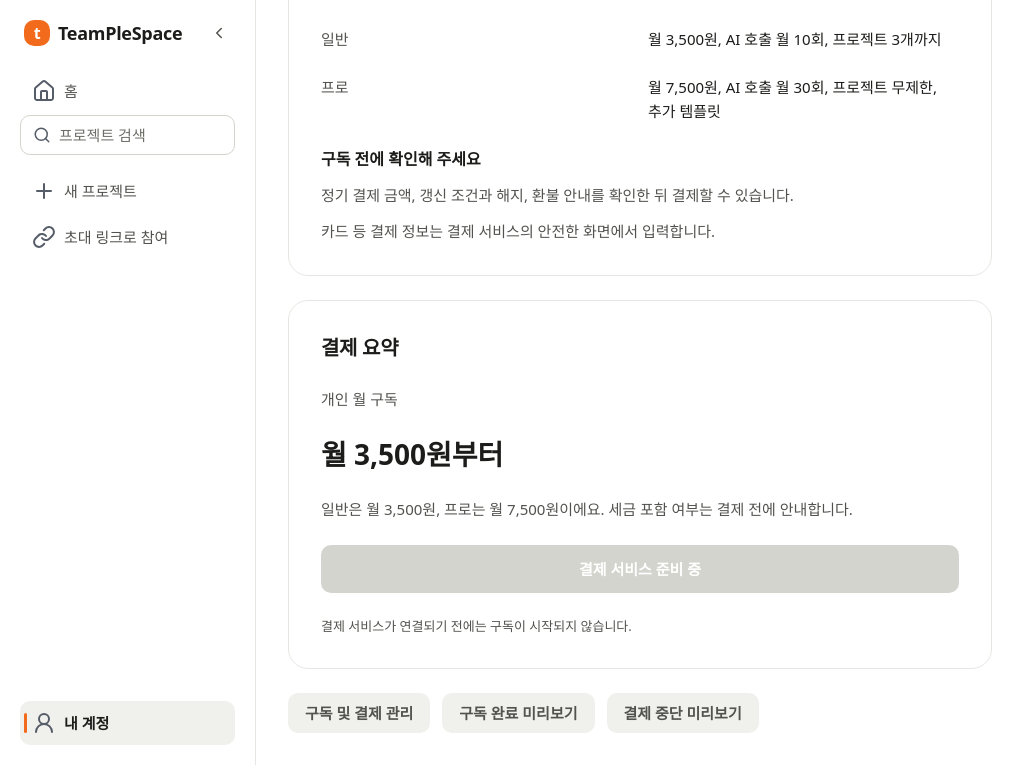
Scenario: 결제 없이 구독 완료와 결제 중단 미리보기를 열고 돌아올 수 있다
(page scrolled)
Click the link "구독 완료 미리보기" at (518, 713), box x1=442 y1=693 x2=594 y2=733
(page scrolled)
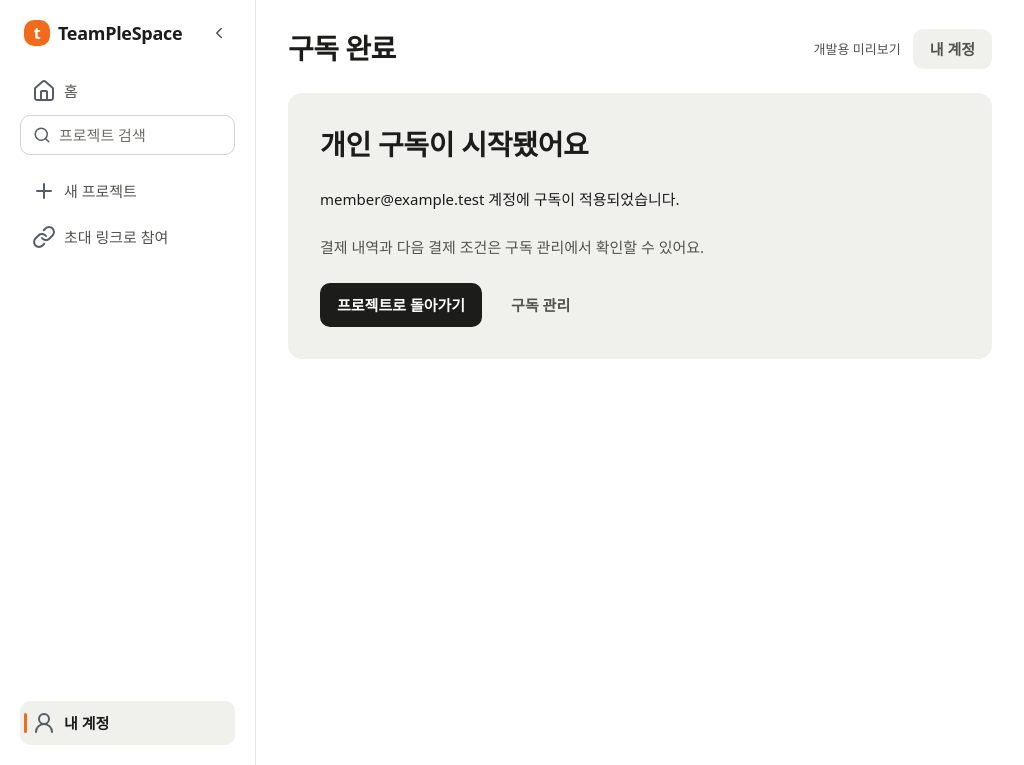
Check: the heading "개인 구독이 시작됐어요" is shown, box x1=320 y1=125 x2=589 y2=163
Check: the text "개발용 미리보기" is shown, box x1=814 y1=40 x2=901 y2=58
Click the link "구독 관리" at (541, 305), box x1=494 y1=283 x2=587 y2=327
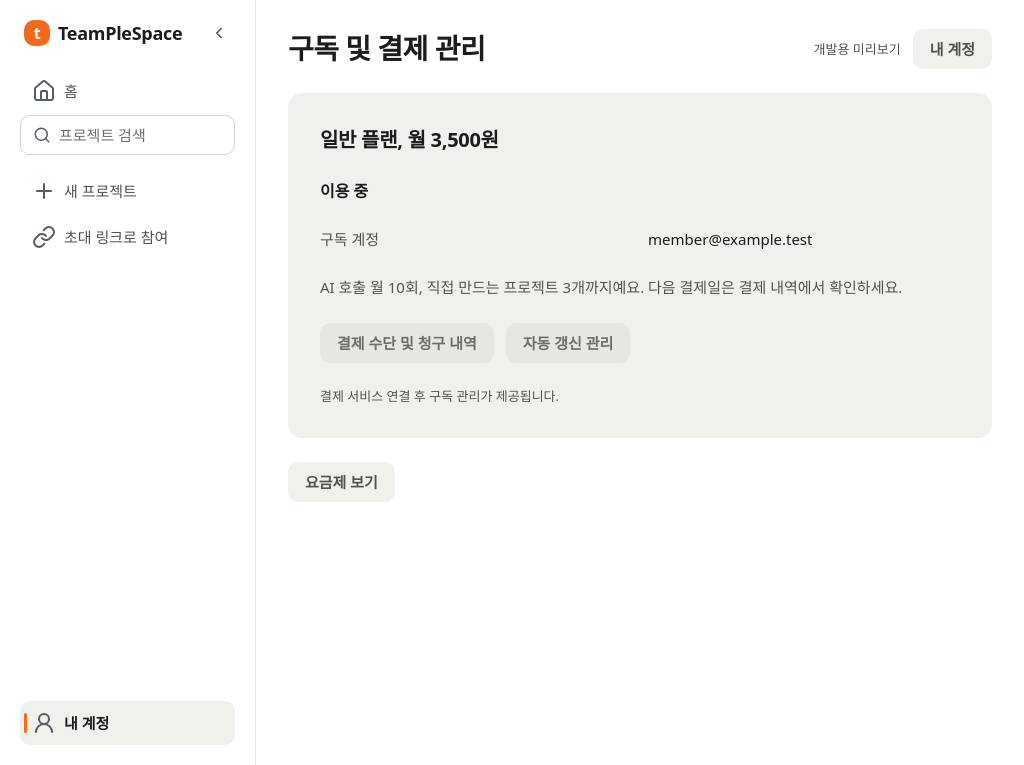
Check: the heading "구독 및 결제 관리" is shown, box x1=288 y1=29 x2=485 y2=67
Click the link "요금제 보기" at (341, 482), box x1=288 y1=462 x2=395 y2=502
(page scrolled)
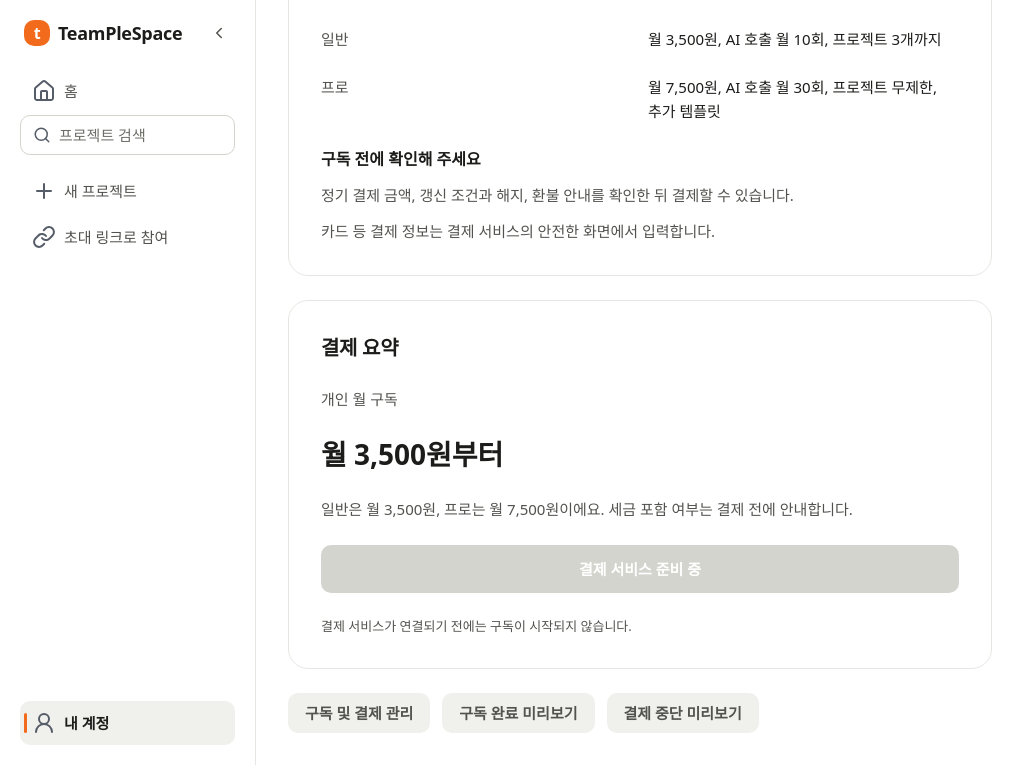
Click the link "결제 중단 미리보기" at (683, 713), box x1=606 y1=693 x2=759 y2=733
(page scrolled)
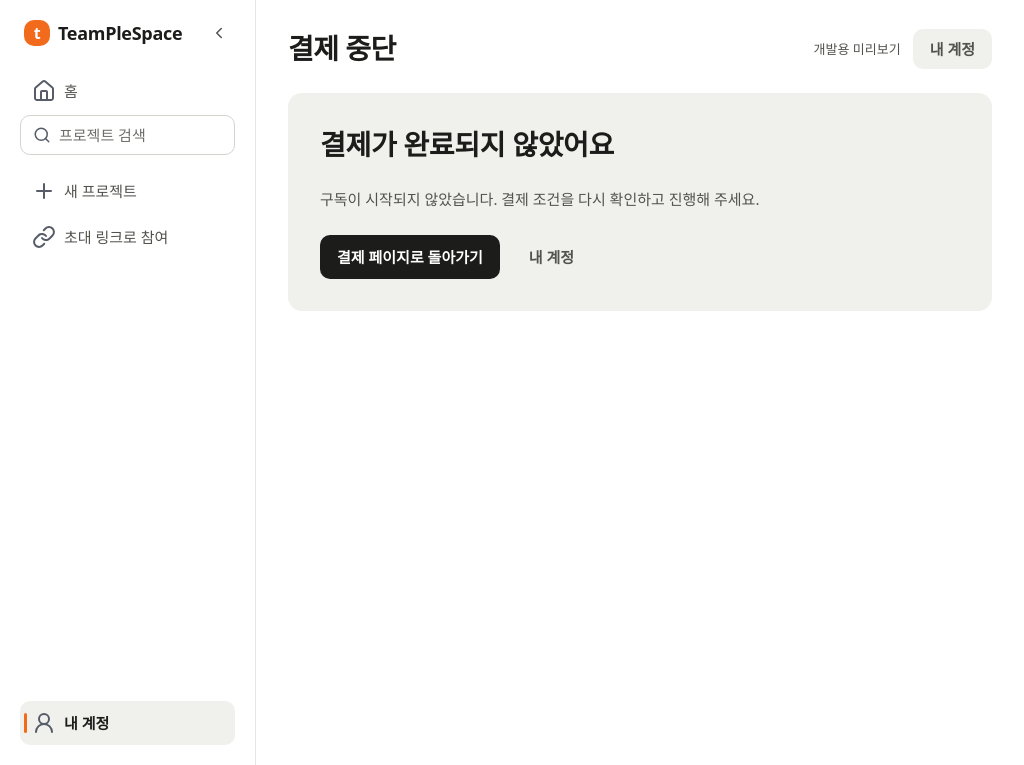
Check: the heading "결제가 완료되지 않았어요" is shown, box x1=320 y1=125 x2=614 y2=163
Check: the text "개발용 미리보기" is shown, box x1=814 y1=40 x2=901 y2=58
Click the link "결제 페이지로 돌아가기" at (410, 257), box x1=320 y1=235 x2=500 y2=279
(page scrolled)
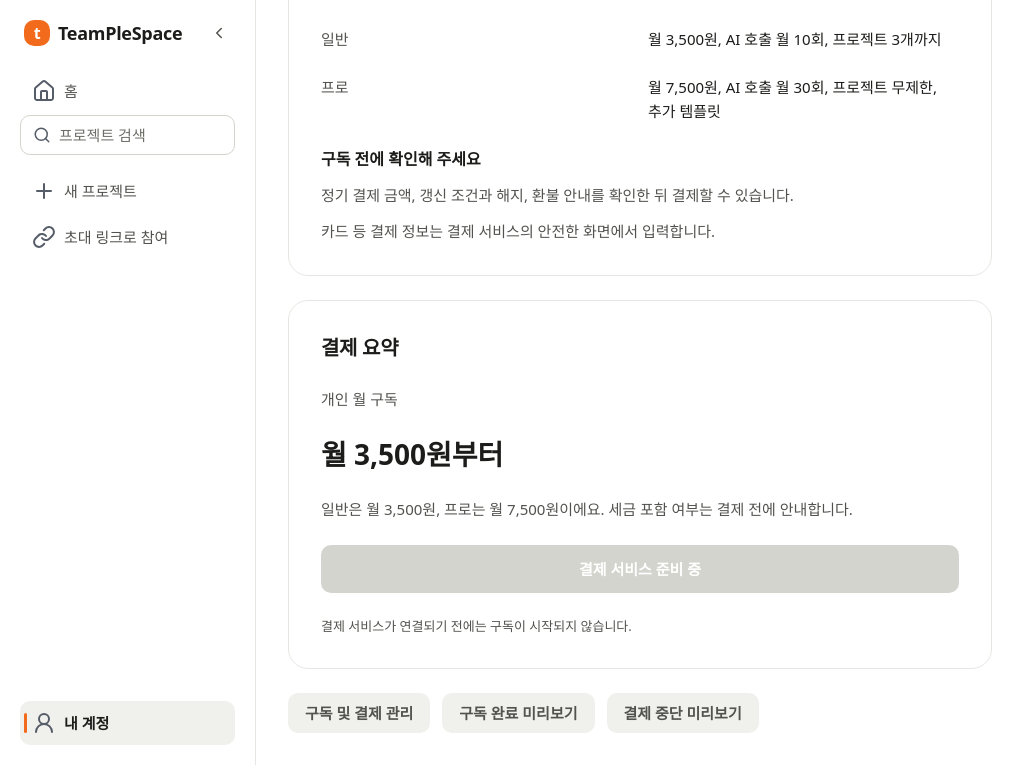
Check: the button "결제 서비스 준비 중" is disabled, box x1=321 y1=545 x2=959 y2=593
